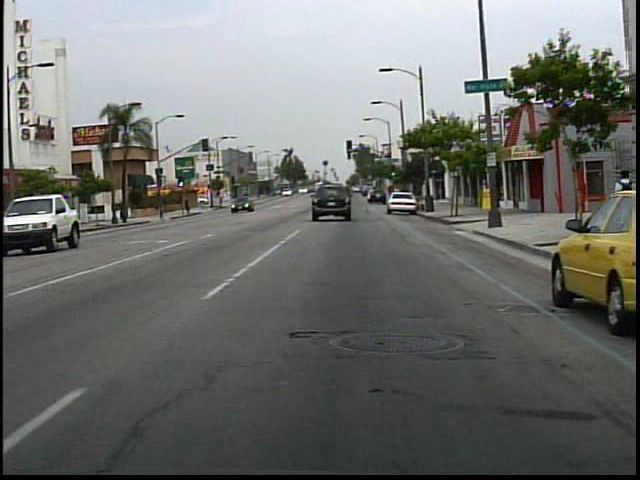person: (606, 161, 633, 209)
